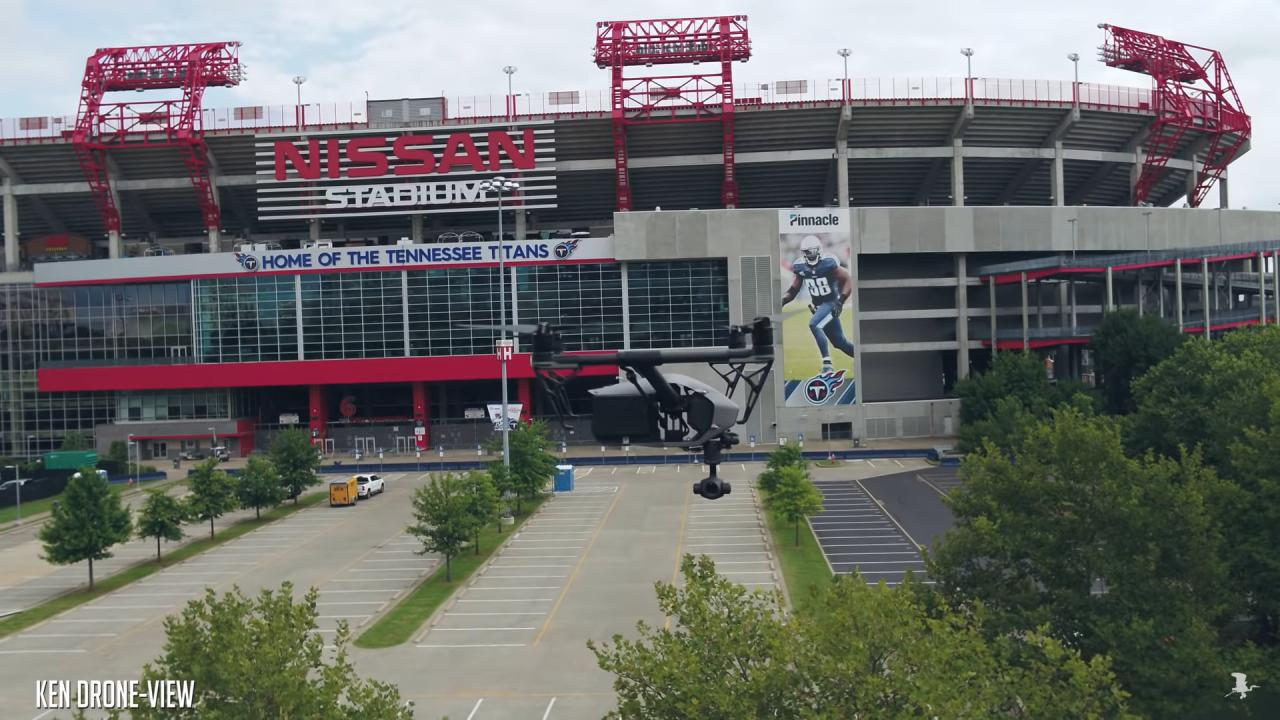Drone: (444, 300, 837, 511)
